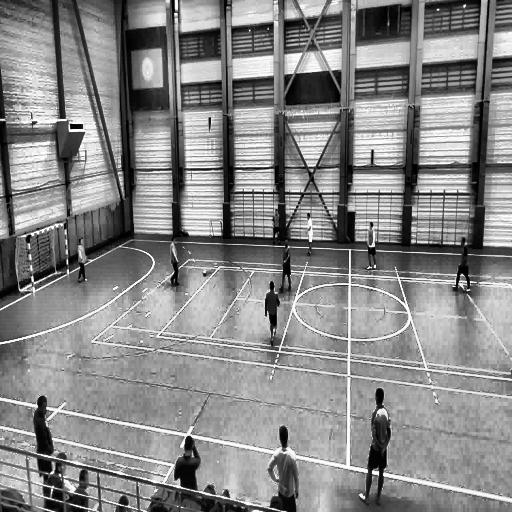ball: (202, 269, 206, 276)
player: (356, 388, 390, 506), (270, 425, 300, 512), (33, 398, 54, 479), (264, 280, 280, 346), (452, 236, 469, 290), (171, 236, 187, 286), (280, 238, 291, 289), (77, 238, 88, 283), (366, 222, 376, 271), (306, 211, 313, 255), (272, 206, 280, 244)
